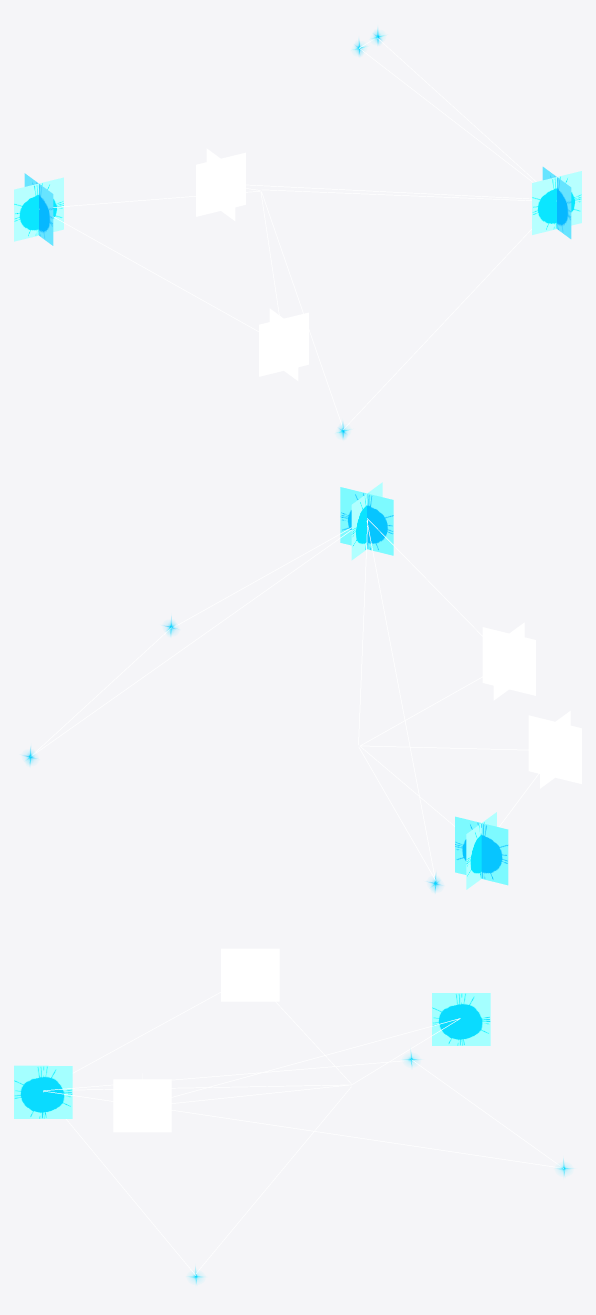
File: phoenix.glb
3 renders of one model, top to bottom at view 1: azimuth 30°, elevation 25°; view 2: azimuth 150°, elevation 25°; view 3: azimuth 270°, elevation 25°, orthographic. The views are drawn at different scales.
Visible parts, largest first — view 1: star_blue_1.010, star_white_1.005, star_white_1.003, star_blue_1.005, Phoenix_line; view 2: star_white_1.005, star_blue_1.005, star_white_1.003, star_blue_1.010, Phoenix_line; view 3: Phoenix_line, star_white_1.003, star_white_1.005, star_blue_1.005, star_blue_1.010.
Part boxes in pixels (bbox=[...]): star_blue_1.010: bbox=[14, 173, 63, 245]; star_white_1.005: bbox=[196, 148, 245, 220]; star_white_1.003: bbox=[259, 308, 308, 380]; star_blue_1.005: bbox=[532, 167, 581, 238]; Phoenix_line: bbox=[39, 38, 536, 429]; star_white_1.005: bbox=[482, 622, 535, 700]; star_blue_1.005: bbox=[340, 482, 393, 560]; star_white_1.003: bbox=[528, 711, 581, 788]; star_blue_1.010: bbox=[455, 812, 508, 889]; Phoenix_line: bbox=[31, 518, 556, 880]; Phoenix_line: bbox=[43, 974, 563, 1275]; star_white_1.003: bbox=[113, 1073, 171, 1132]; star_white_1.005: bbox=[221, 948, 279, 1001]; star_blue_1.005: bbox=[14, 1065, 72, 1118]; star_blue_1.010: bbox=[432, 993, 490, 1045].
Bounding box in the file's own units: 4.52 × 3.31 × 5.32.
4 materials, 3 textured.
